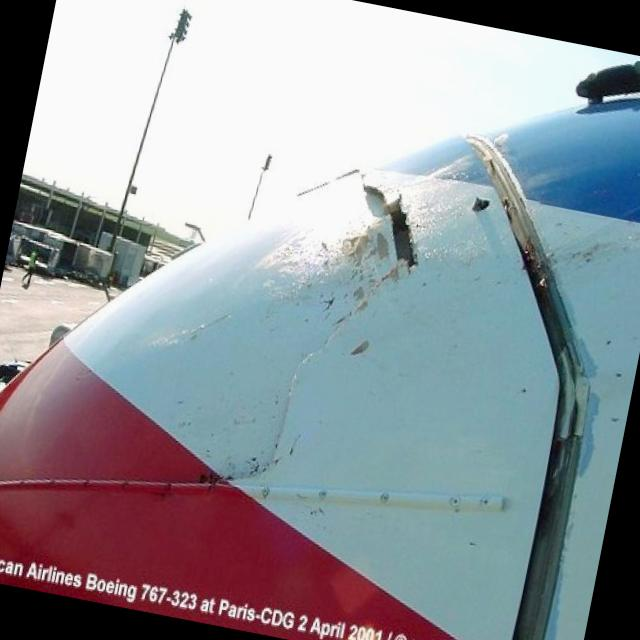crack: (354, 177, 396, 216)
